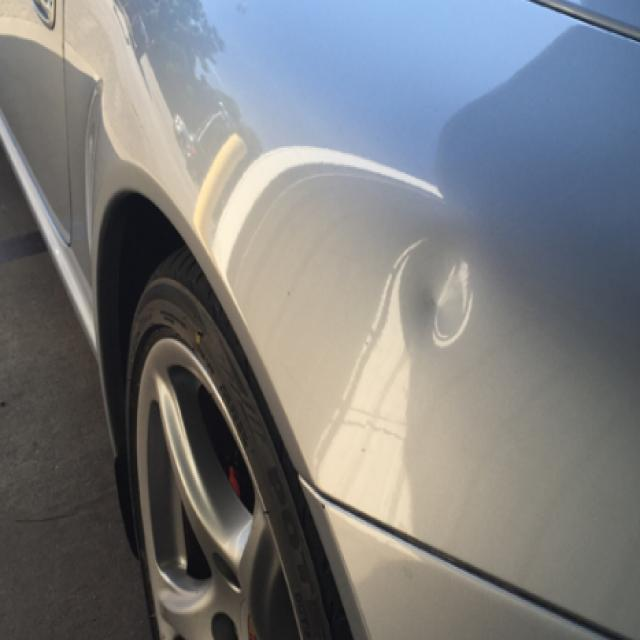dents: (391, 236, 506, 366)
